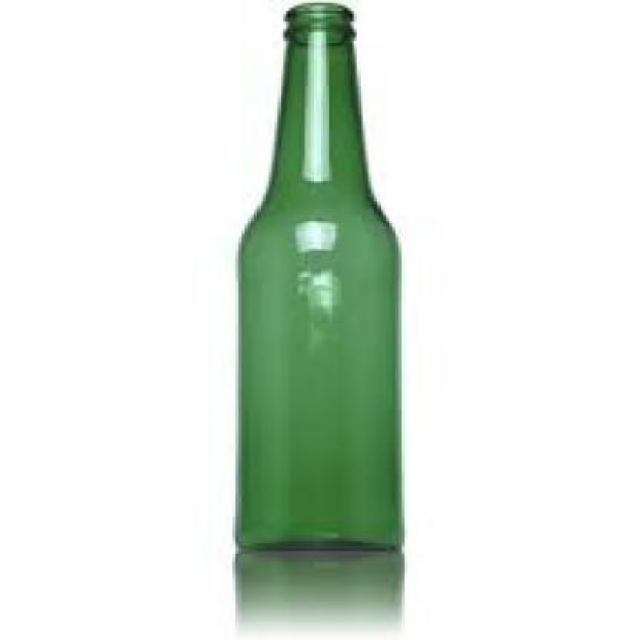GLASS: (235, 0, 399, 552)
